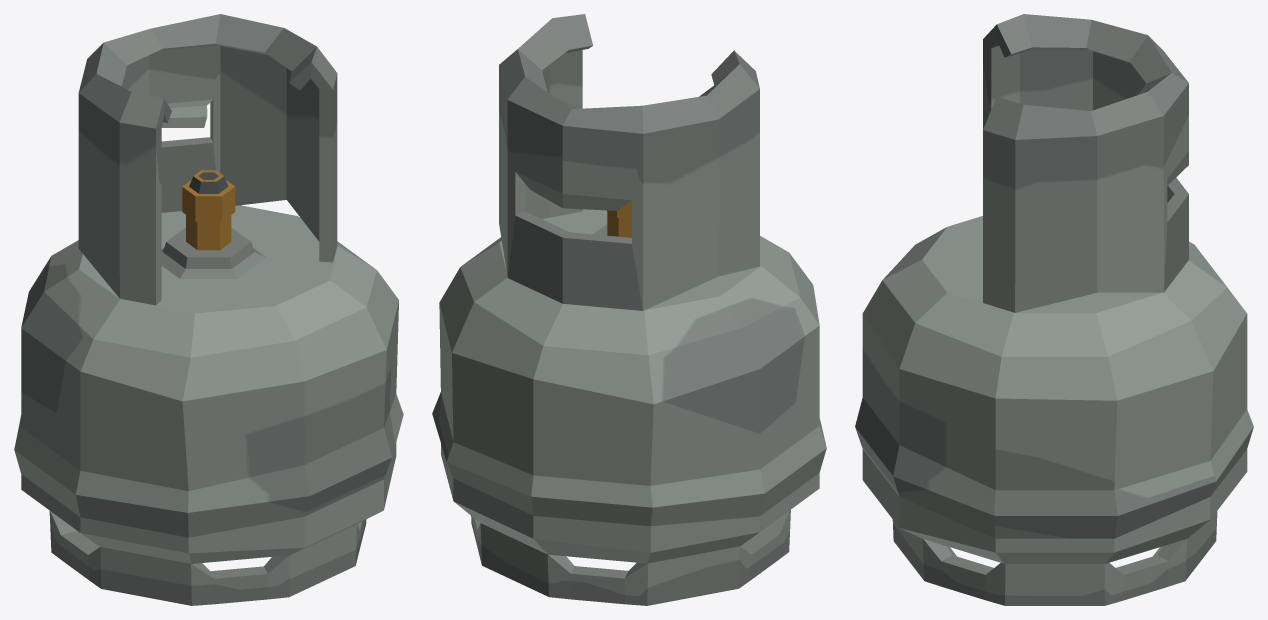
Rendered from SM_Barrel_B_02.gltf.
3 views of the same model, side by side, from view 1: azimuth 30°, elevation 25°; view 2: azimuth 150°, elevation 25°; view 3: azimuth 270°, elevation 25° (orthographic).
Visible parts, largest first — view 1: SM_Barrel_B_02; view 2: SM_Barrel_B_02; view 3: SM_Barrel_B_02.
Part boxes in pixels (left/top/right/bottom): SM_Barrel_B_02: left=14, top=14, right=403, bottom=605; SM_Barrel_B_02: left=432, top=14, right=826, bottom=605; SM_Barrel_B_02: left=855, top=14, right=1253, bottom=605.
Size of the model in its own units: 0.3662 by 0.5139 by 0.3839.
Materials: 1 (1 with a texture image).
